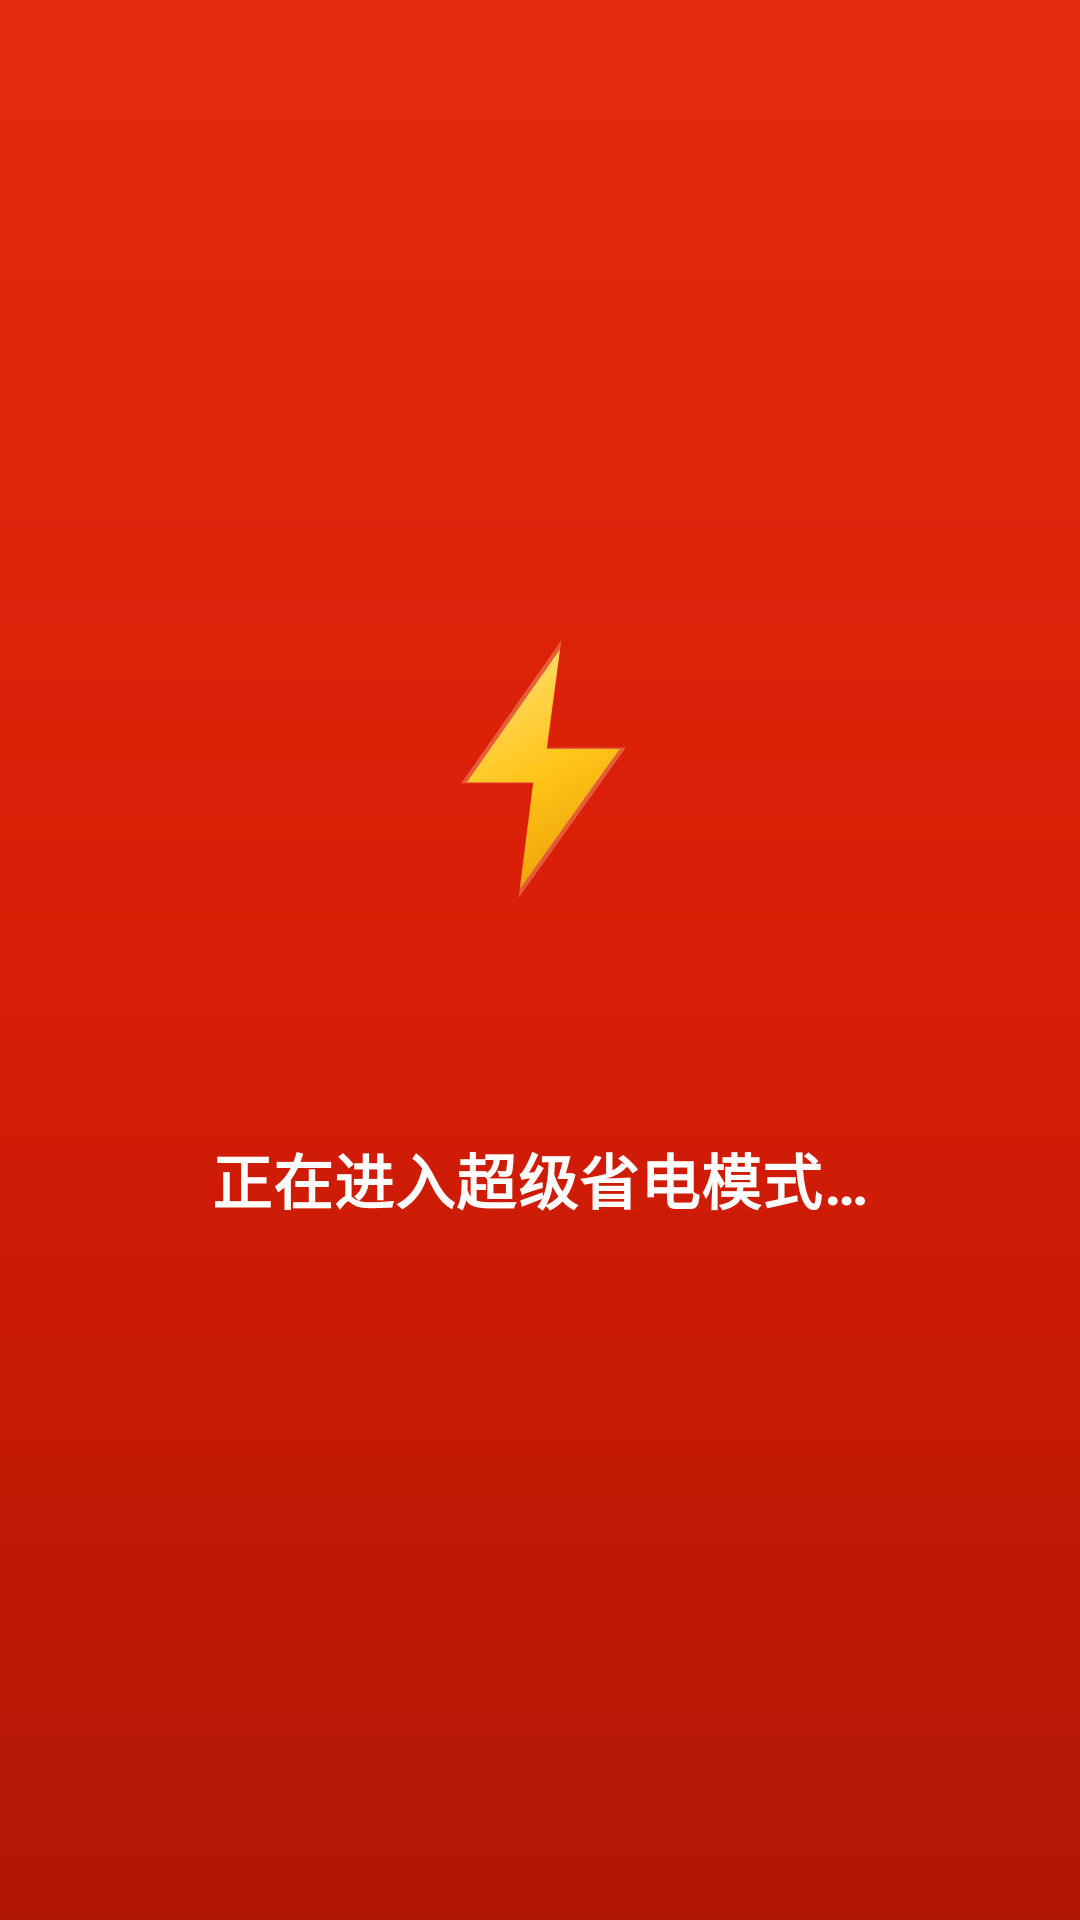

Point at icon controls on the screen. Image size 1080 × 1920, points as [x,y].
bolt full: [543,769]
